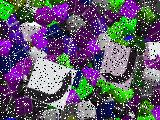Left: (24, 56, 77, 110)
Right: (98, 39, 138, 92)
